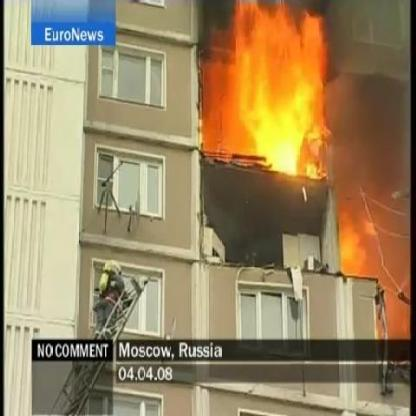fire: (213, 0, 332, 185), (338, 206, 366, 274)
